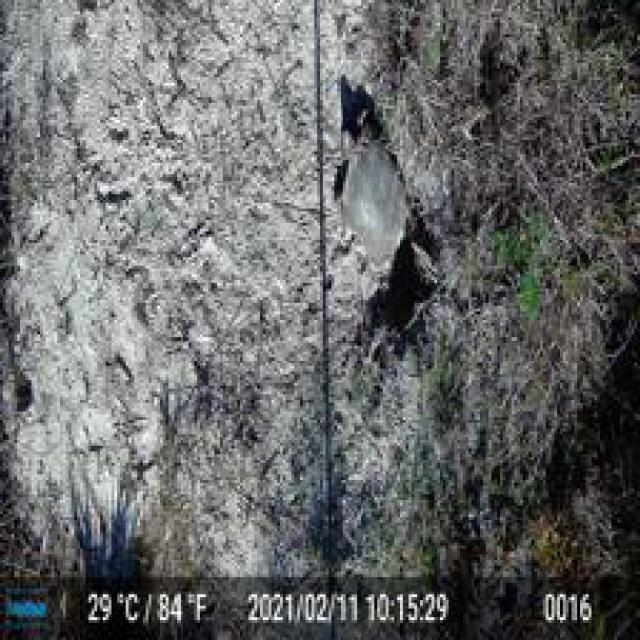tortoise: (332, 123, 415, 266)
